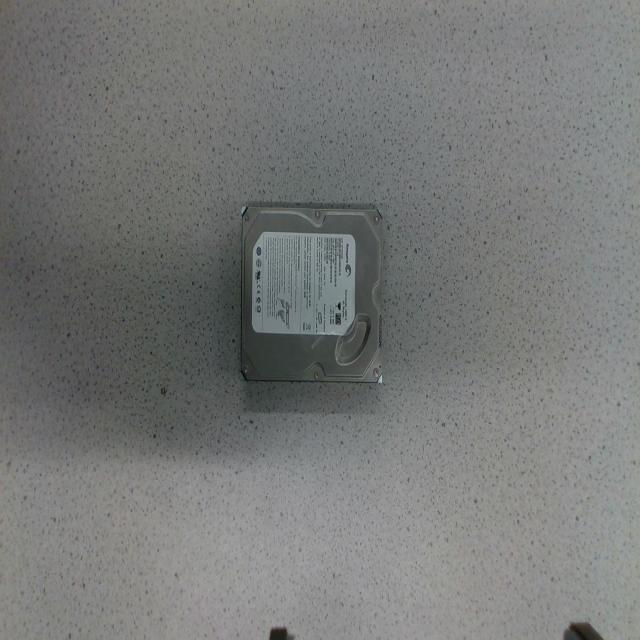label: (253, 233, 354, 334)
lid: (240, 205, 384, 380)
screw: (242, 365, 248, 375), (374, 215, 380, 223), (243, 214, 250, 220), (316, 210, 320, 219), (314, 371, 318, 379), (374, 369, 378, 376)
